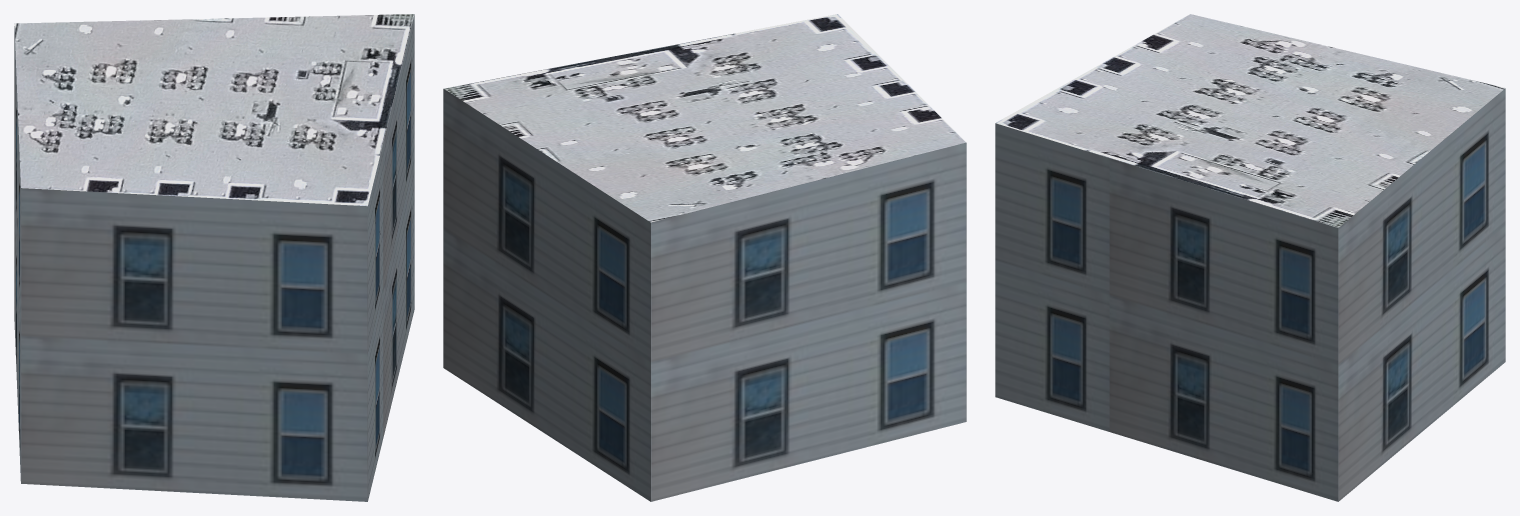
The model's file is ResTex__3592.fbx.
3 views of the same model, side by side, from view 1: azimuth 30°, elevation 25°; view 2: azimuth 150°, elevation 25°; view 3: azimuth 270°, elevation 25° (orthographic). The views are drawn at different scales.
Visible parts, largest first — view 1: CityEngineMaterial_18_m, CityEngineMaterial_m; view 2: CityEngineMaterial_18_m, CityEngineMaterial_m; view 3: CityEngineMaterial_18_m, CityEngineMaterial_m.
Boxes of the visible parts, box(x1,y1,x2,y2) form: CityEngineMaterial_18_m: box(14, 14, 414, 501); CityEngineMaterial_m: box(14, 14, 414, 206); CityEngineMaterial_18_m: box(443, 89, 966, 501); CityEngineMaterial_m: box(444, 14, 965, 222); CityEngineMaterial_18_m: box(995, 88, 1505, 501); CityEngineMaterial_m: box(995, 14, 1505, 227).
Size of the model in its own units: 10.06 by 6 by 10.14.
Materials: 2 (2 with a texture image).
